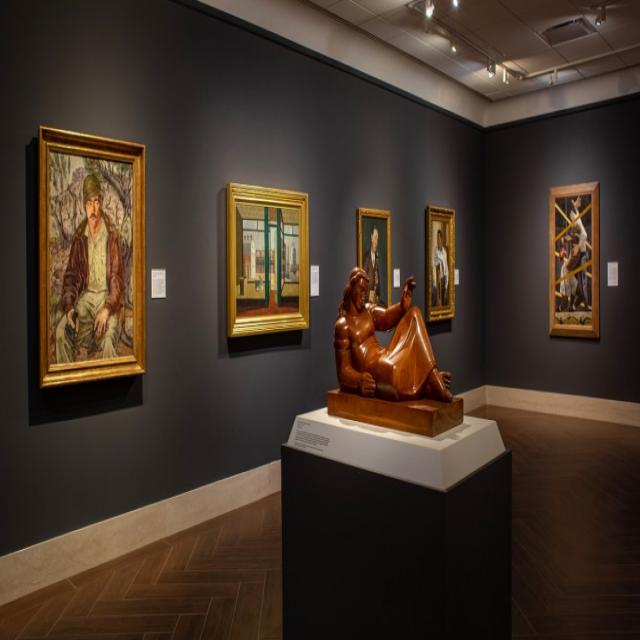Tablo: (49, 149, 135, 367), (235, 200, 301, 321), (554, 191, 593, 328), (360, 213, 388, 313), (430, 217, 450, 309)
